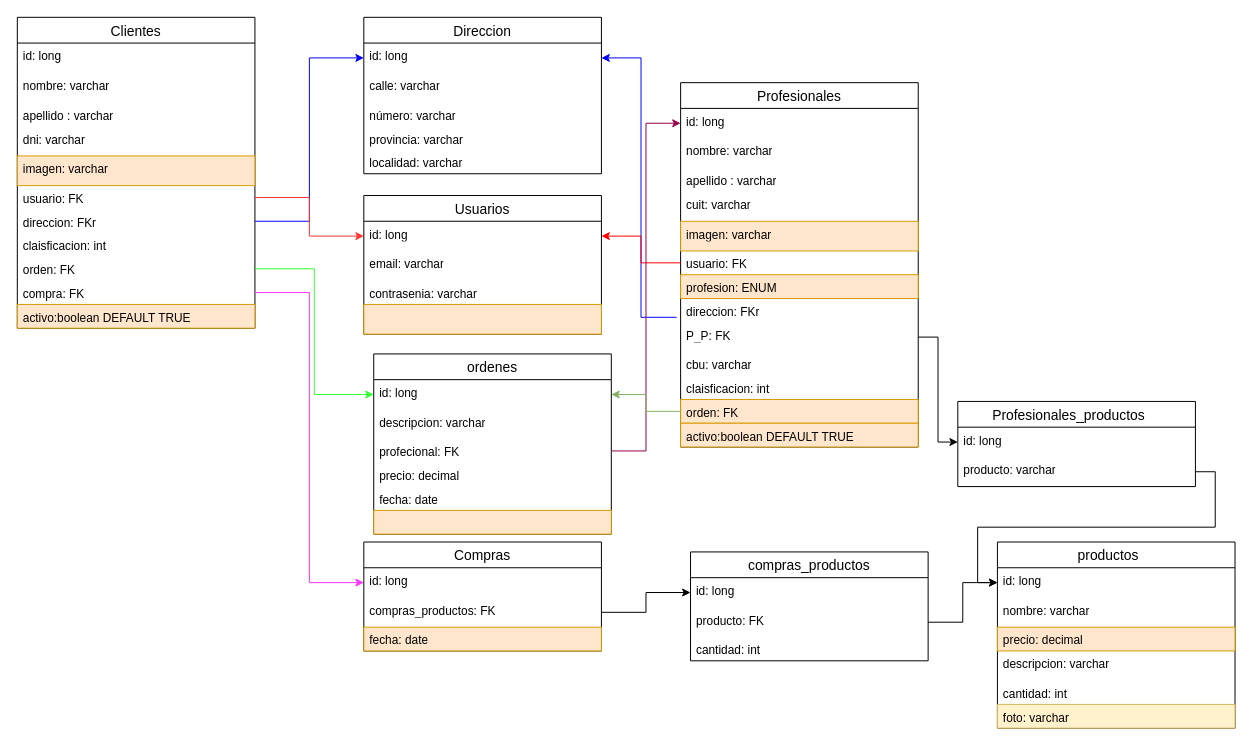
Image size: 1252x748. Some labels were removed from this diagram. The shapes that lost their labels are listed below. From the top down, each one's centre as x and y in pixels, then its label:
the point at 482,318: avatar: varchar DEFAULT url
the point at 492,521: aprobada: boolean DEFAULT false
